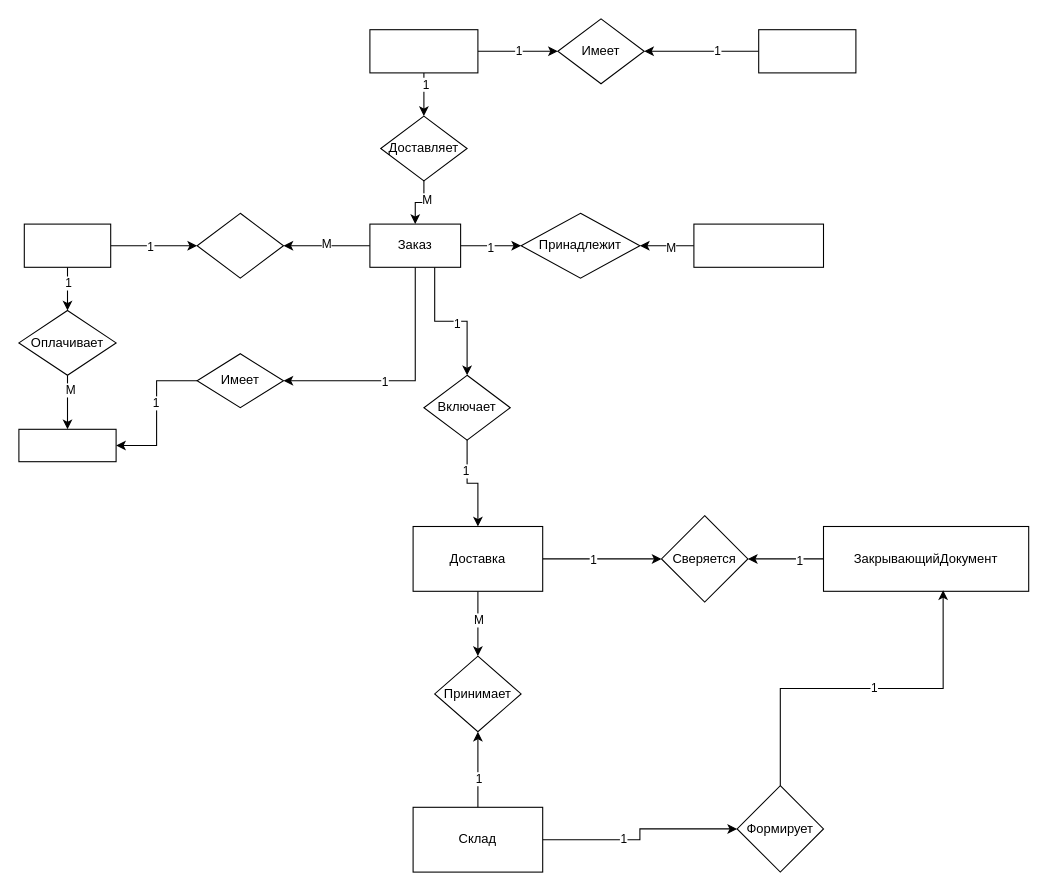
Image size: 1048x891. Some labels were removed from this diagram. The shapes that lost their labels are listed below. From the top down, each one's centre as x and y in pixels, then its label:
At (423,51): "Поставщик".
At (807,51): "Прайс-лист".
At (67,245): "Заказчик".
At (240,245): "Создает".
At (758,245): "ПозицияЗаказа".
At (67,445): "Оплата".
